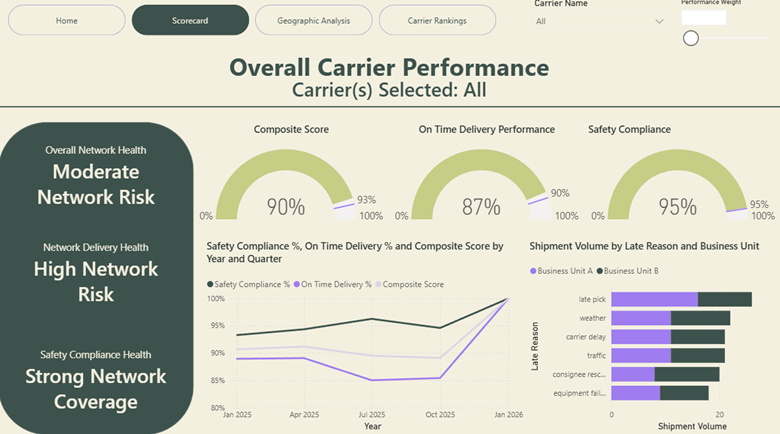

The page's visual inventory and layout, read from the dashboard file:
{"tool":"powerbi","page":{"name":"Scorecard","canvas":[1280,720],"ordinal":1},"visuals":[{"type":"gauge","title":"Composite Score","fields":{"Y":["Measures Table.Composite Score"],"TargetValue":["Measures Table.Composite Goal"]},"box":[320,208,320,176],"z":0},{"type":"shape","box":[0,32,1280,304],"z":1000},{"type":"cardVisual","fields":{"Data":["Measures Table.Selected SCAC(s)"]},"box":[0,64,1280,176],"z":2000},{"type":"shape","box":[0,64,1280,96],"z":3000},{"type":"gauge","title":"On Time Delivery Performance","fields":{"Y":["Measures Table.On Time Delivery %"],"TargetValue":["Measures Table.OTD Goal"]},"box":[640,208,320,176],"z":4000},{"type":"gauge","title":"Safety Compliance","fields":{"Y":["Measures Table.Safety Compliance %"],"TargetValue":["Measures Table.Safety Goal"]},"box":[960,208,320,176],"z":5000},{"type":"slicer","fields":{"Values":["Performance Weight.Performance Weight"]},"box":[1104,0,176,96],"z":6000},{"type":"barChart","fields":{"Category":["Fact_Shipments.Late Reason"],"Y":["Count(Fact_Shipments.Shipment ID)"],"Series":["Fact_Shipments.Business Unit"]},"box":[864,400,416,320],"z":7000},{"type":"lineChart","fields":{"Category":["Fact_Shipments.Shipment Date.Variation.Date Hierarchy.Year","Fact_Shipments.Shipment Date.Variation.Date Hierarchy.Quarter","Fact_Shipments.Shipment Date.Variation.Date Hierarchy.Month","Fact_Shipments.Shipment Date.Variation.Date Hierarchy.Day"],"Y":["Measures Table.Safety Compliance %","Measures Table.On Time Delivery %","Measures Table.Composite Score"]},"box":[336,400,528,320],"z":8000},{"type":"shape","box":[0,208,320,512],"z":9000},{"type":"slicer","fields":{"Values":["Dim_Vendor.Carrier Name"]},"box":[864,0,240,96],"z":10000},{"type":"cardVisual","fields":{"Data":["Measures Table.Overall Network Health"]},"box":[0,208,320,176],"z":11000},{"type":"cardVisual","fields":{"Data":["Measures Table.Network Delivery Health"]},"box":[0,368,320,176],"z":12000},{"type":"cardVisual","fields":{"Data":["Measures Table.Safety Compliance Health"]},"box":[0,544,320,176],"z":13000},{"type":"pageNavigator","box":[16,16,800,50],"z":14000}]}

Visuals, with their boxes in screenshot pixels (x1, y1, x2, y2), scaled from the page's 1280x720 canvas onto the 780x434 screenshot:
"Composite Score" gauge: (195, 125, 390, 231)
shape: (0, 19, 779, 203)
cardVisual - Measures Table.Selected SCAC(s): (0, 39, 779, 145)
shape: (0, 39, 779, 96)
"On Time Delivery Performance" gauge: (390, 125, 585, 231)
"Safety Compliance" gauge: (585, 125, 779, 231)
slicer - Performance Weight.Performance Weight: (673, 0, 779, 58)
barChart - Fact_Shipments.Late Reason x Count(Fact_Shipments.Shipment ID): (526, 241, 779, 433)
lineChart - Fact_Shipments.Shipment Date.Variation.Date Hierarchy.Year x Fact_Shipments.Shipment Date.Variation.Date Hierarchy.Quarter: (205, 241, 526, 433)
shape: (0, 125, 195, 433)
slicer - Dim_Vendor.Carrier Name: (526, 0, 673, 58)
cardVisual - Measures Table.Overall Network Health: (0, 125, 195, 231)
cardVisual - Measures Table.Network Delivery Health: (0, 222, 195, 328)
cardVisual - Measures Table.Safety Compliance Health: (0, 328, 195, 433)
pageNavigator: (10, 10, 497, 40)
